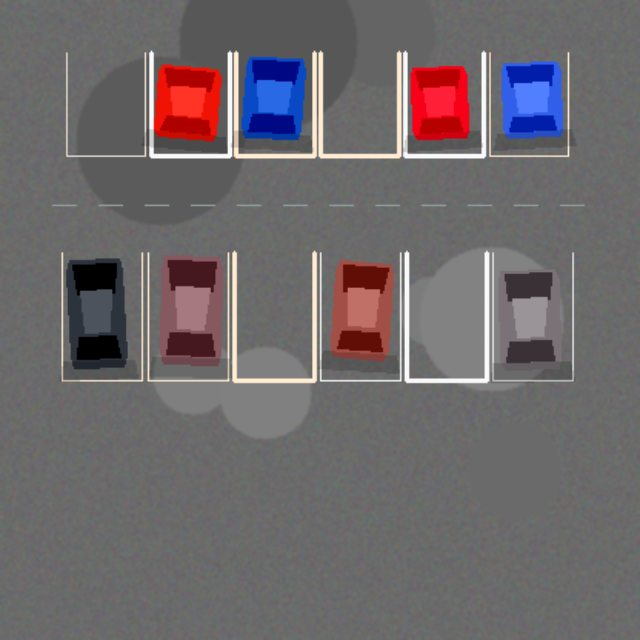space-empty: (234, 252, 314, 380), (406, 252, 486, 380), (66, 52, 145, 155), (320, 52, 398, 155)
space-occupied: (62, 252, 142, 380), (148, 252, 228, 380), (320, 252, 400, 380), (492, 252, 572, 380), (235, 52, 314, 155), (489, 52, 568, 155), (151, 52, 229, 155), (405, 52, 483, 155)
